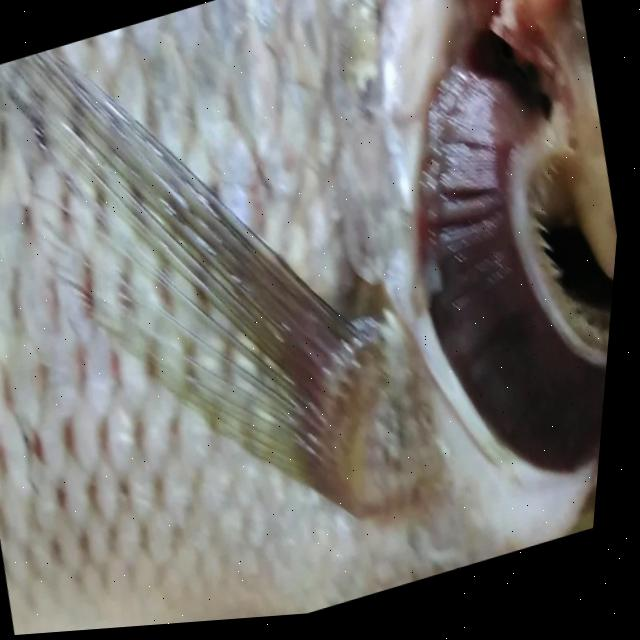Non-Fresh: (340, 0, 638, 539)
